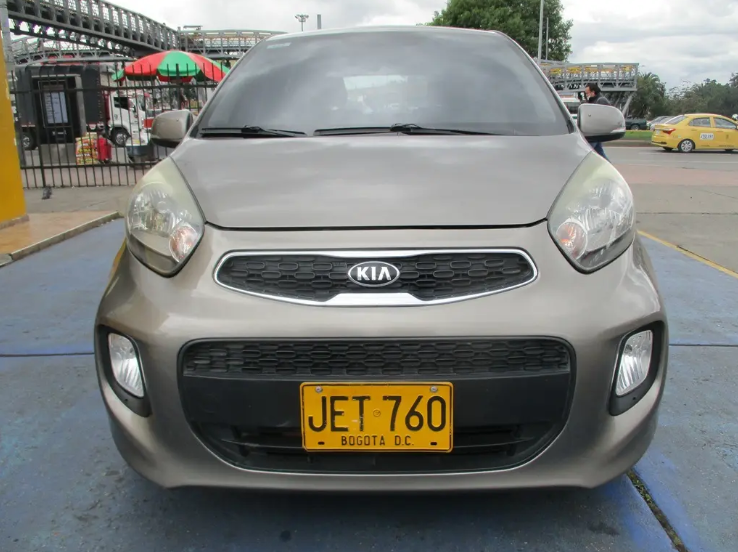placa: (302, 384, 450, 453)
